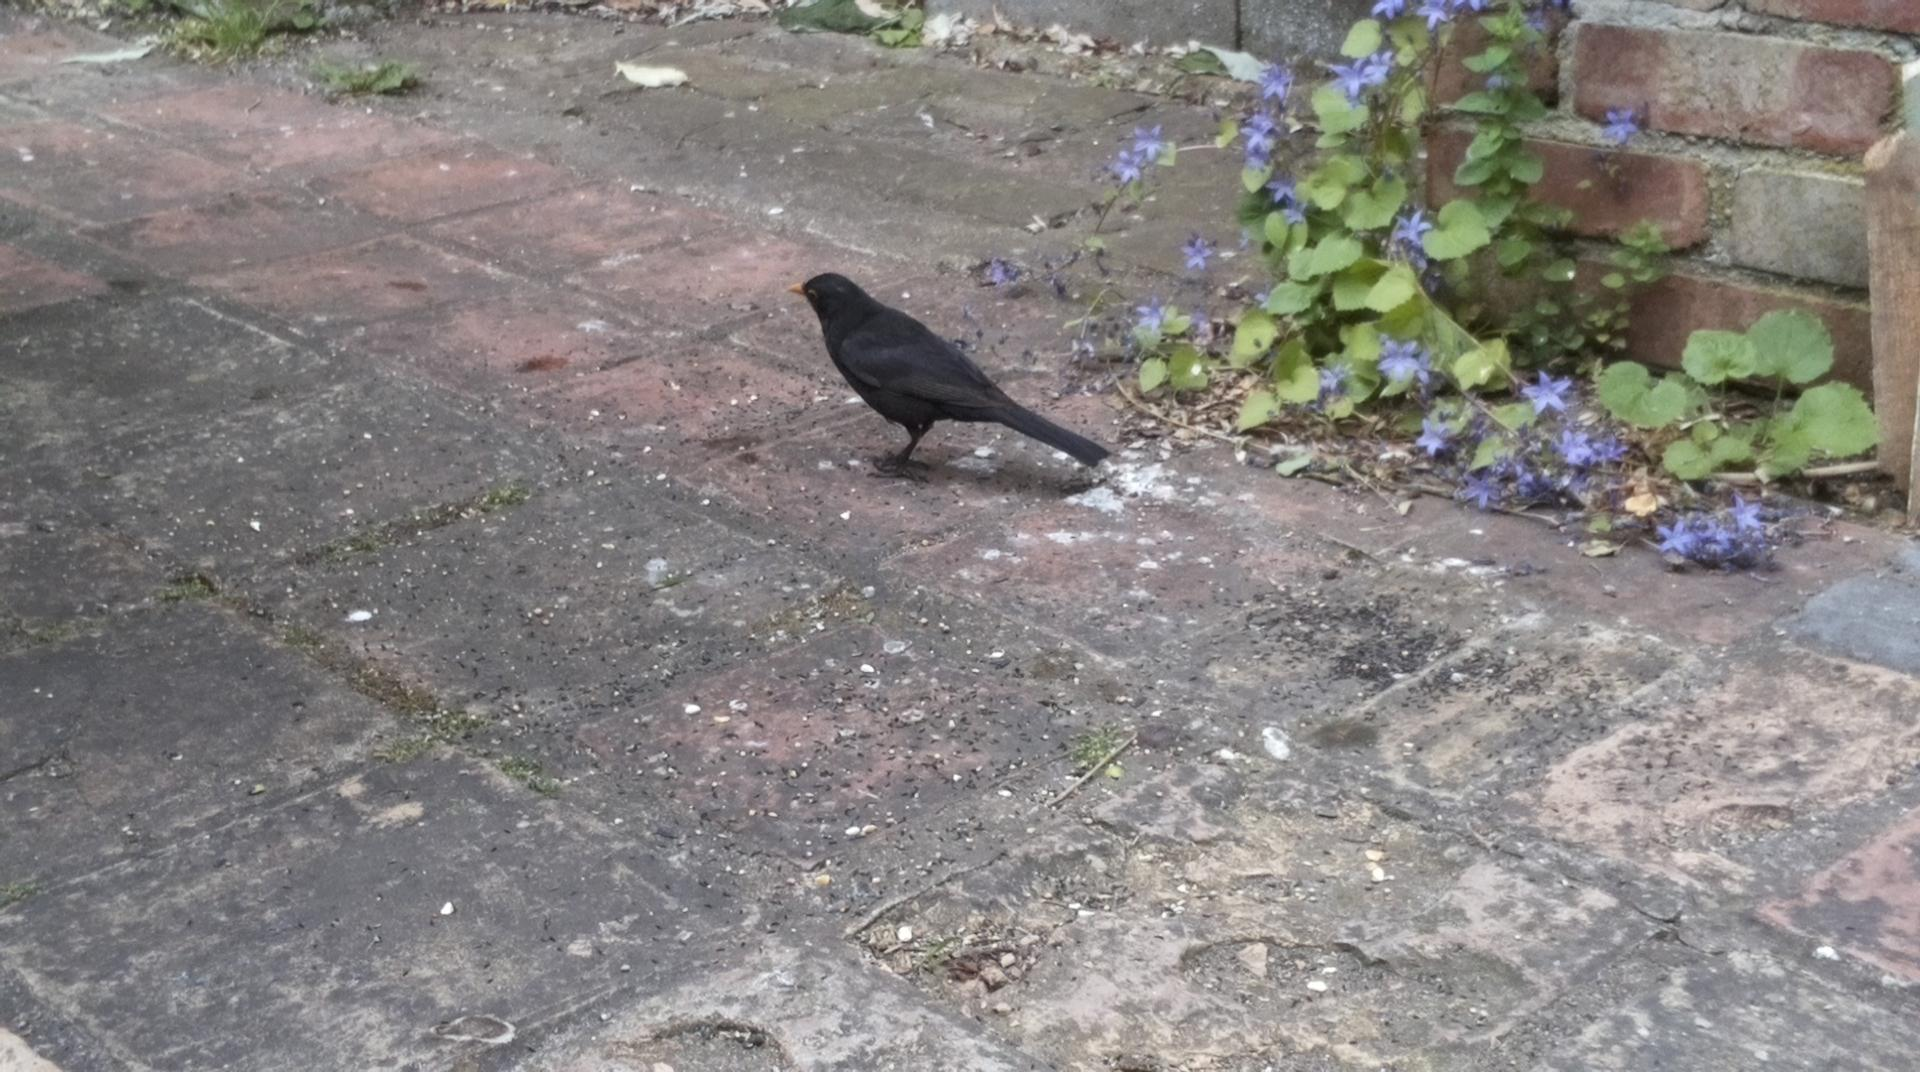blackbird: (785, 272, 1112, 485)
